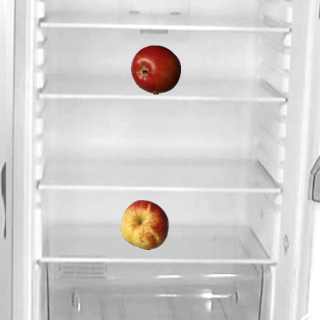Apple Braeburn: (130, 44, 180, 94)
Apple Red Yellow 1: (119, 199, 169, 249)
